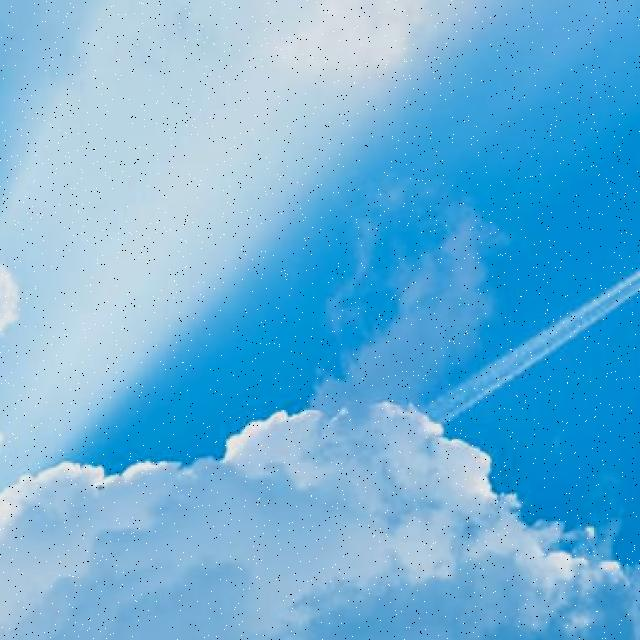Ct: (329, 229, 640, 442)
